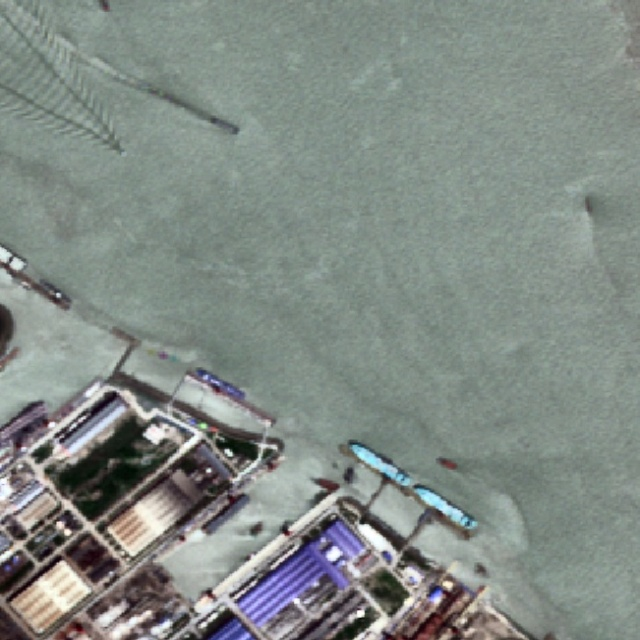wake: (5, 40, 149, 177)
